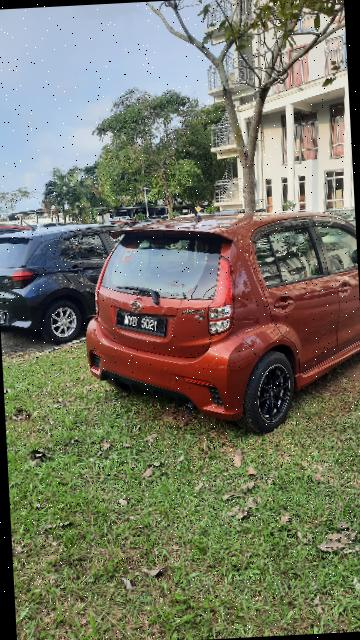License_Plate: (111, 305, 170, 344)
car: (82, 203, 360, 441), (1, 218, 150, 354)
